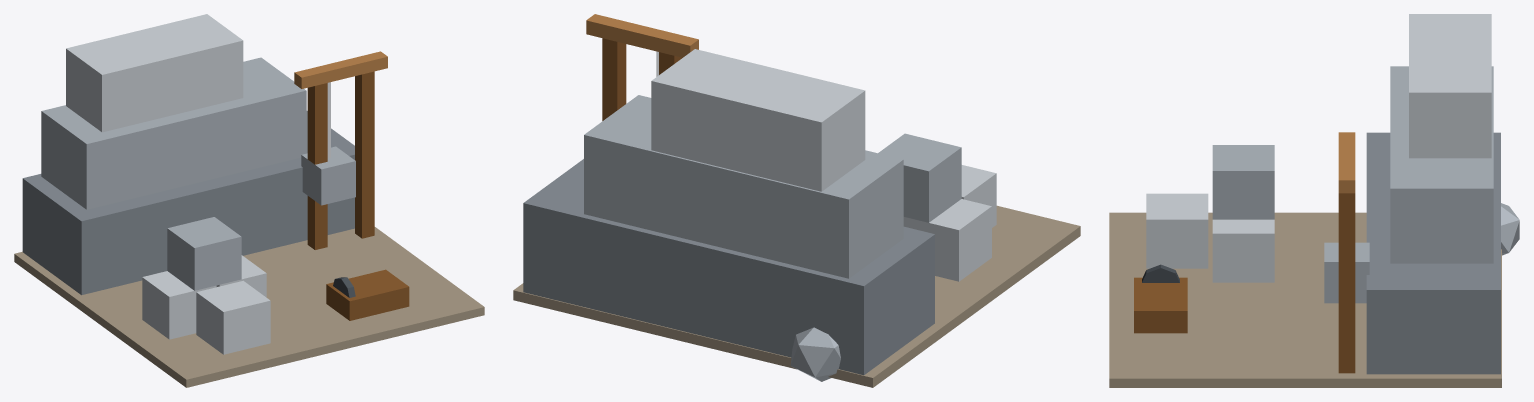
Rendered from quarry.glb.
3 renders of one model, left to right at view 1: azimuth 30°, elevation 25°; view 2: azimuth 150°, elevation 25°; view 3: azimuth 270°, elevation 25°, orthographic. The views are drawn at different scales.
Parts seen in each view (by area): view 1: pedra.007, cinza_chao.001, pedra_clara.005, pedra_escura.008, madeira_escura.009, madeira.007; view 2: pedra_escura.008, pedra.007, pedra_clara.005, cinza_chao.001, madeira.007, madeira_escura.009; view 3: cinza_chao.001, pedra_clara.005, pedra.007, pedra_escura.008, madeira_escura.009, madeira.007, lixo.003.
Part boxes in pixels (left/top/right/bottom): pedra.007: left=41, top=57, right=355, bottom=290; cinza_chao.001: left=14, top=227, right=484, bottom=387; pedra_clara.005: left=66, top=14, right=270, bottom=354; pedra_escura.008: left=22, top=111, right=354, bottom=295; madeira_escura.009: left=307, top=71, right=409, bottom=320; madeira.007: left=294, top=51, right=387, bottom=88; pedra_escura.008: left=523, top=159, right=934, bottom=375; pedra.007: left=584, top=95, right=961, bottom=381; pedra_clara.005: left=651, top=49, right=996, bottom=281; cinza_chao.001: left=513, top=205, right=1080, bottom=387; madeira.007: left=586, top=14, right=698, bottom=57; madeira_escura.009: left=602, top=38, right=682, bottom=120; cinza_chao.001: left=1109, top=212, right=1501, bottom=387; pedra_clara.005: left=1146, top=14, right=1491, bottom=282; pedra.007: left=1212, top=66, right=1519, bottom=303; pedra_escura.008: left=1366, top=132, right=1500, bottom=374; madeira_escura.009: left=1134, top=193, right=1355, bottom=373; madeira.007: left=1338, top=132, right=1355, bottom=193; lixo.003: left=1142, top=264, right=1179, bottom=282.
Size of the model in its own units: 1.93 by 1.31 by 1.99.
